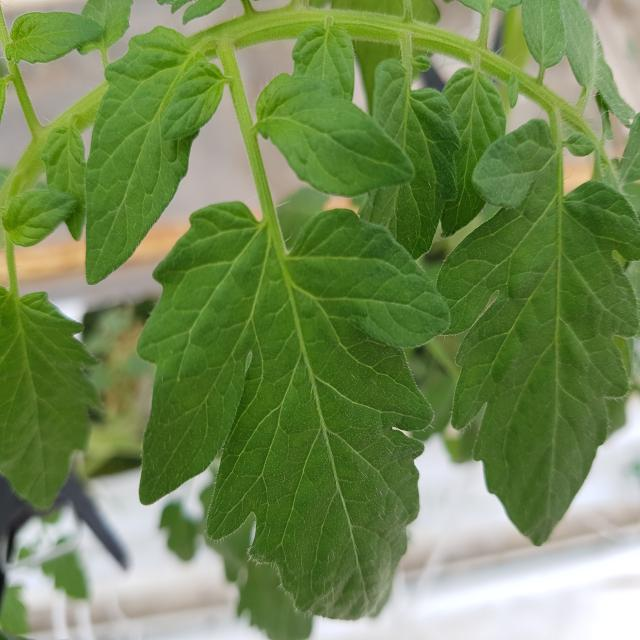Healthy Leaf: (139, 201, 451, 620), (438, 185, 640, 545), (86, 29, 211, 287), (1, 286, 103, 513), (362, 61, 460, 262), (259, 72, 416, 197), (446, 70, 506, 236), (565, 1, 640, 127), (475, 121, 561, 210), (8, 12, 101, 63), (165, 62, 225, 139), (46, 127, 86, 240), (5, 192, 77, 245), (522, 1, 565, 68)
